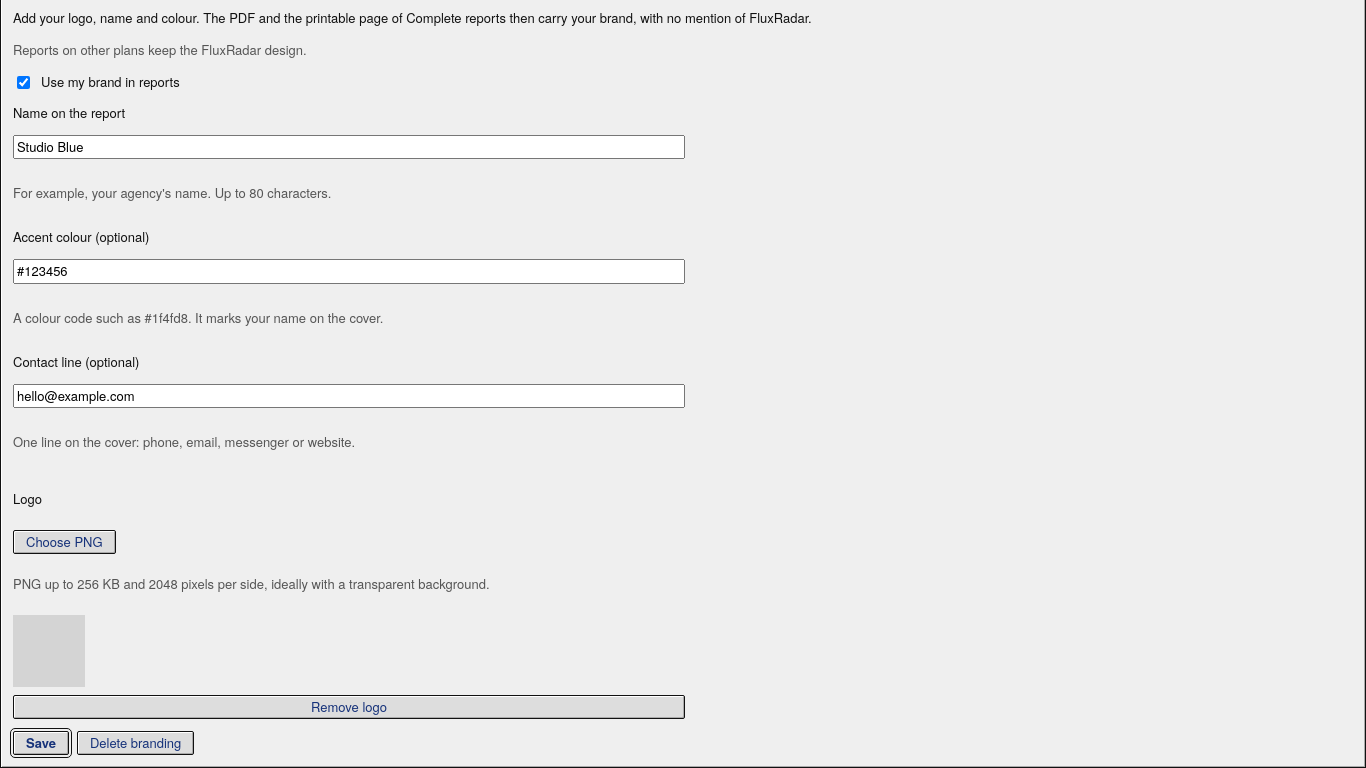
it: keeps the form when the delete is cancelled
The width and height of the screenshot is (1366, 768).
(page scrolled)
Click the button "Delete branding". click: click(136, 743)
box: [77,731,194,755]
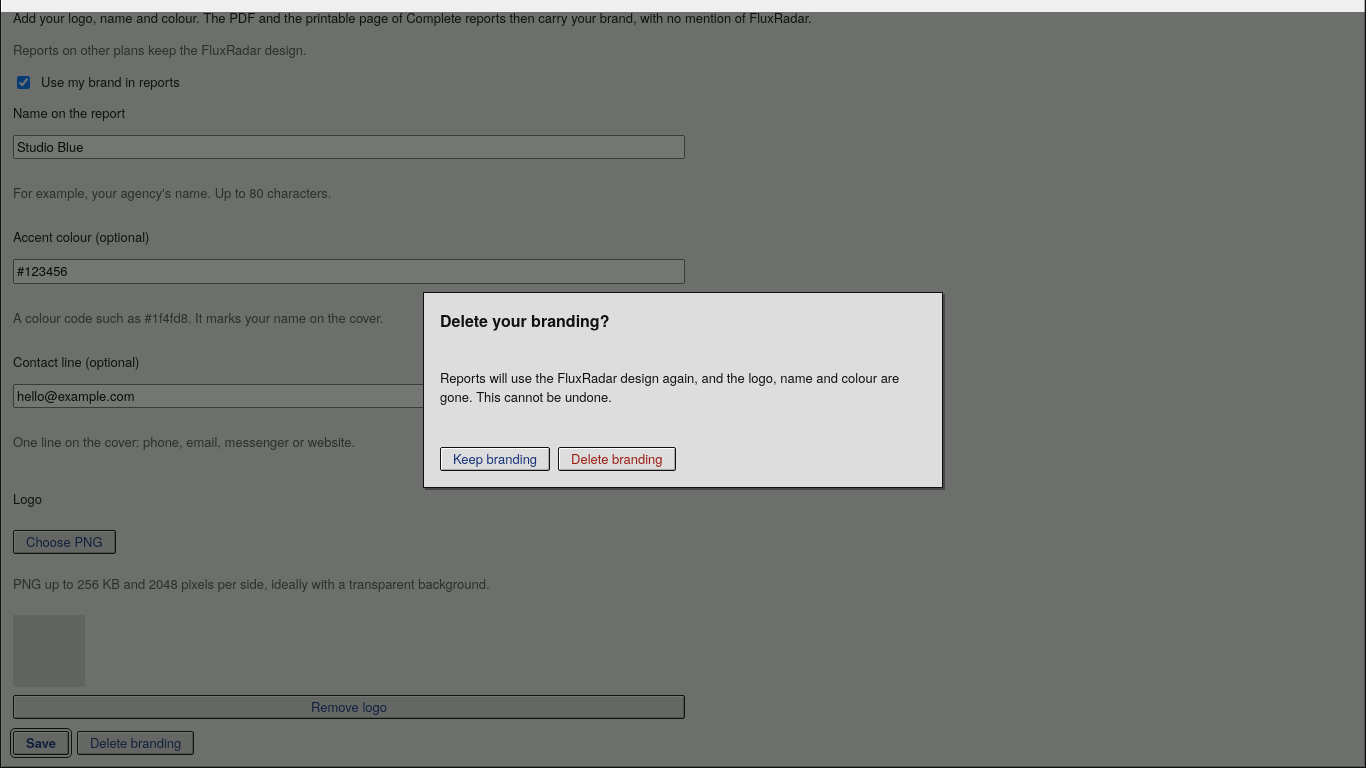
Click the button "Keep branding". click: click(495, 459)
box: [440,447,550,471]
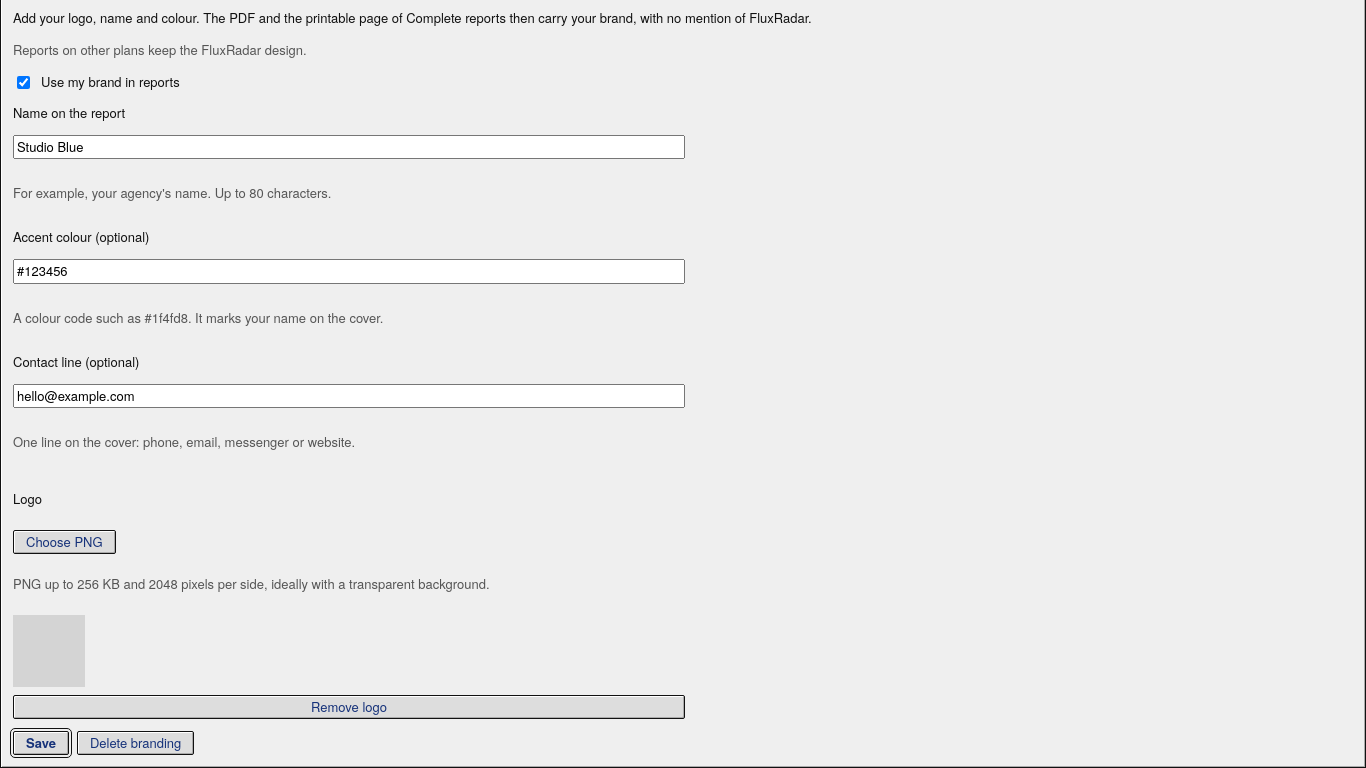
Expected: the field labelled "Name on the report" holds "Studio Blue", [13,134,685,159]
Result: the dialog is gone
